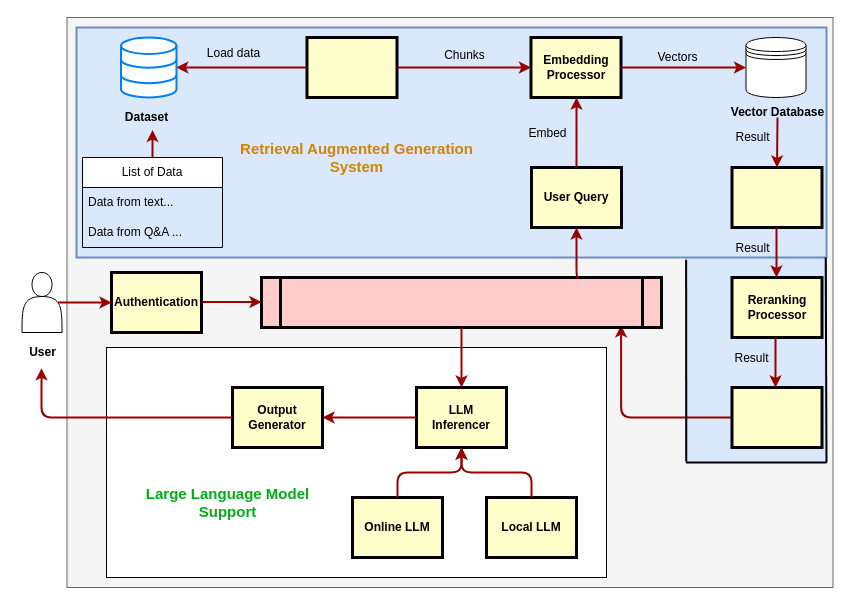
Some shapes in this 851 by 605 pixel diagram are drawn without their labels. The centre of each missing label's shape, as x and y in pixels:
Data Preprocessor: the point at 351,67
Prompt Template: the point at 776,417
Retrieval Processor: the point at 776,197
SympAI System: the point at 461,302
